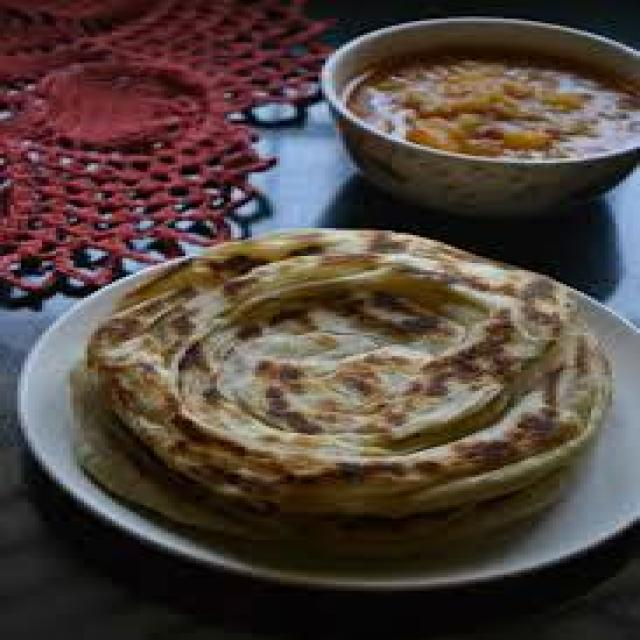Paratha: (51, 223, 618, 568)
